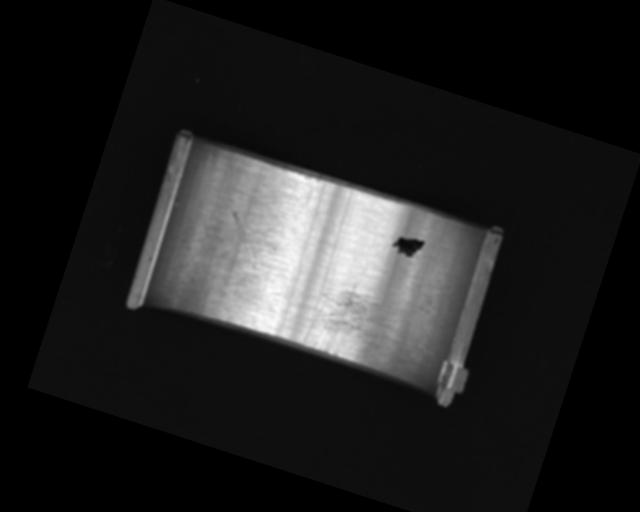blot: (388, 230, 426, 261)
nick: (216, 209, 268, 268)
scratch: (301, 273, 423, 381)
